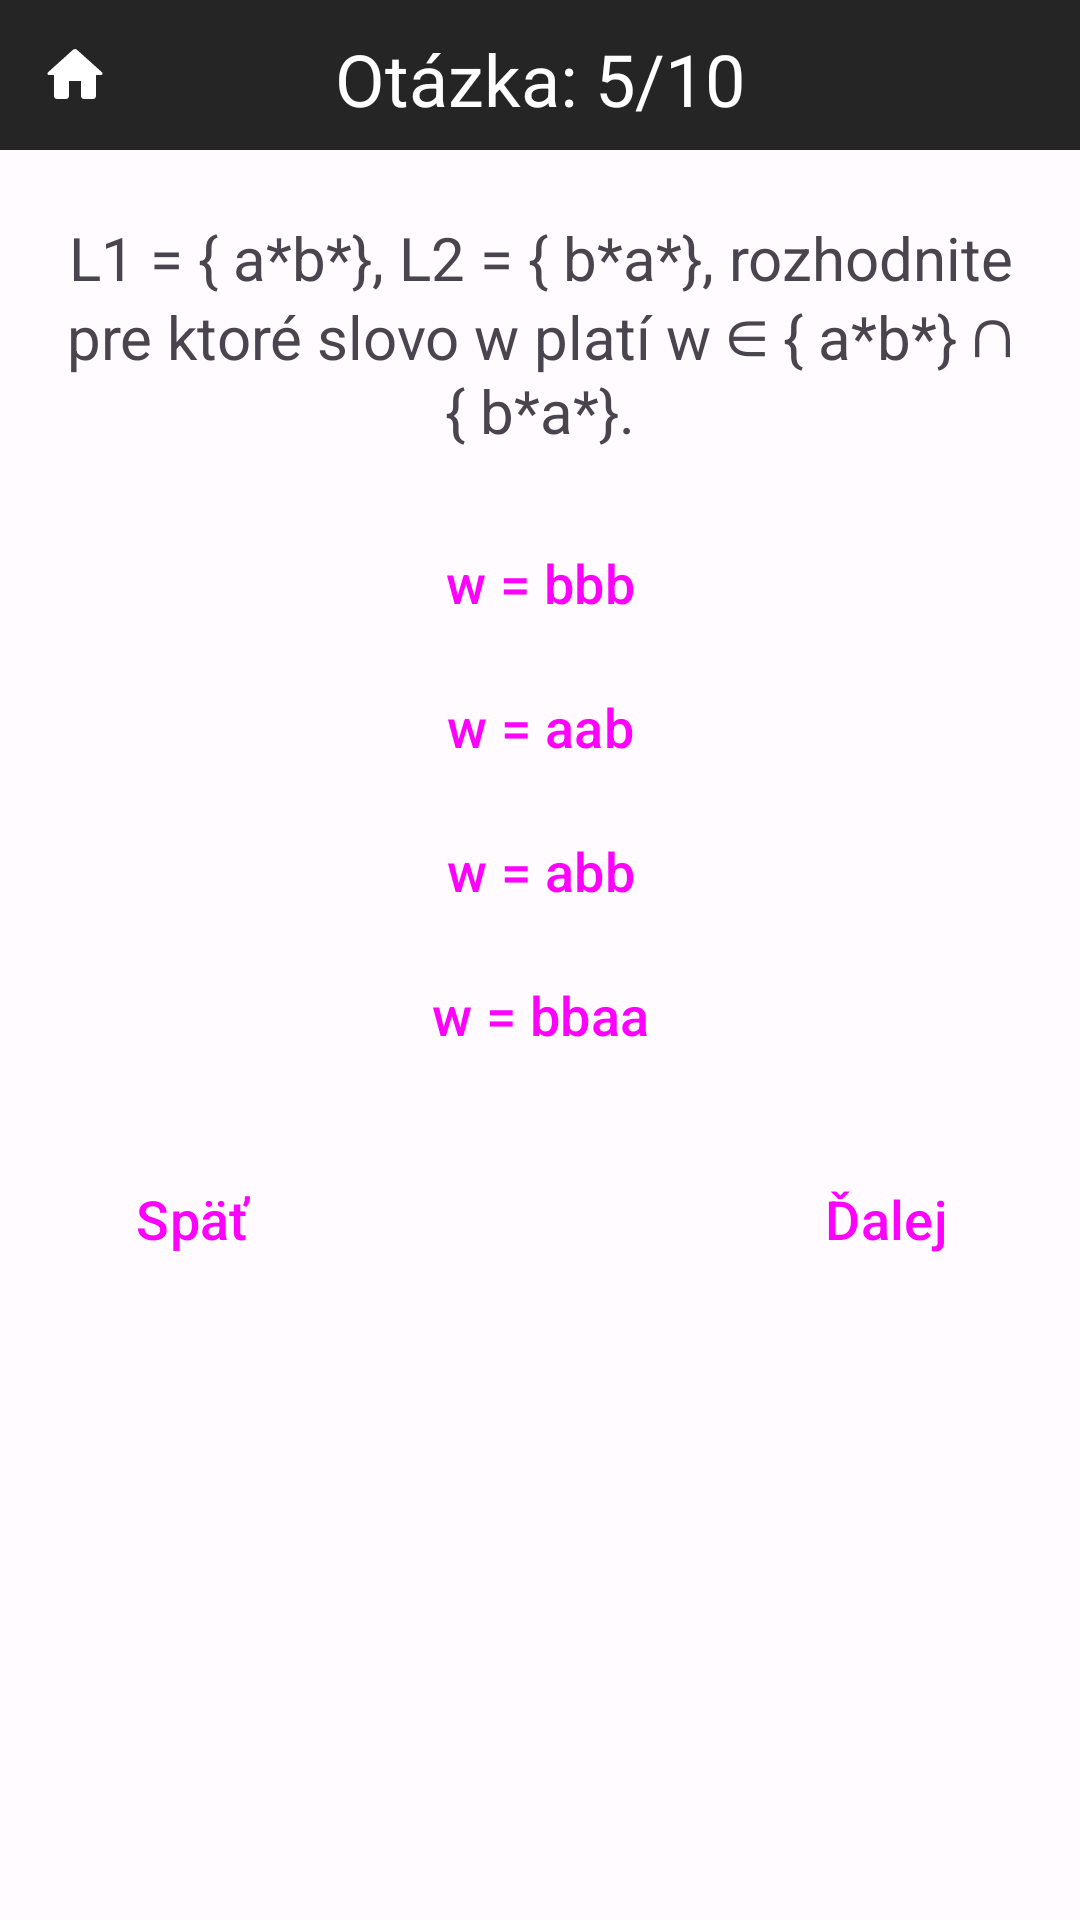

Named icons in this screenshot (1080*1920) and their centers, point (x, y):
domov: point (75, 74)
